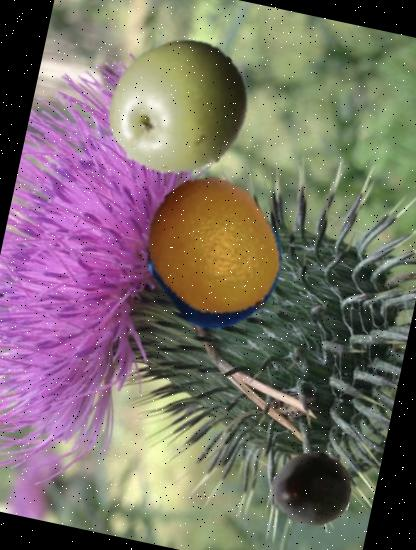Apple: (92, 22, 264, 194)
Huckleberry: (138, 179, 297, 338)
Lemon: (127, 163, 304, 340)
Plum: (264, 442, 359, 536)
